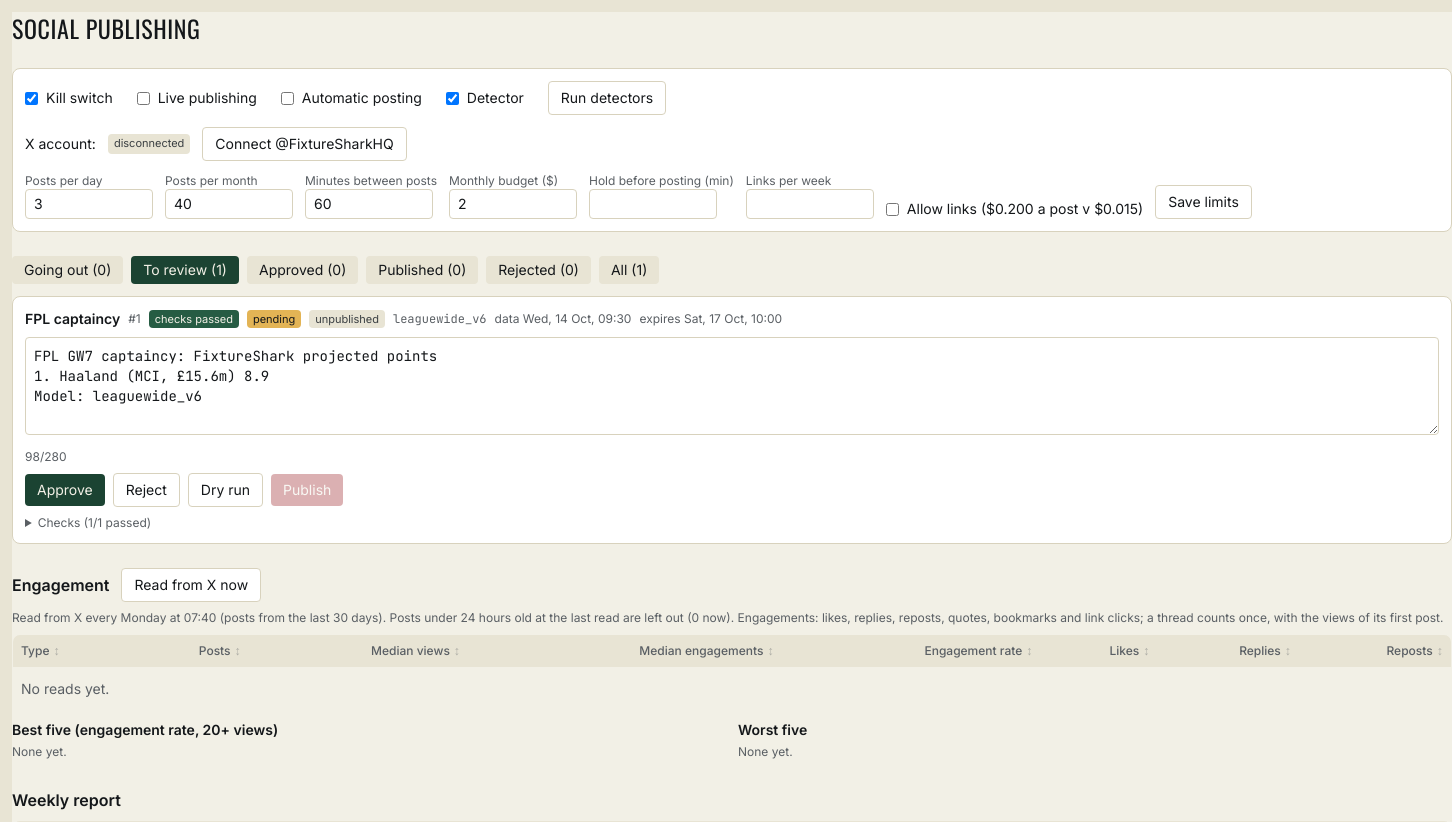
Scenario: SocialPage › blocks an edit that adds a number
The width and height of the screenshot is (1452, 822).
In the text box named "Text of candidate 1": (732, 386) x1=25 y1=337 x2=1439 y2=435, type " 100% nailed"
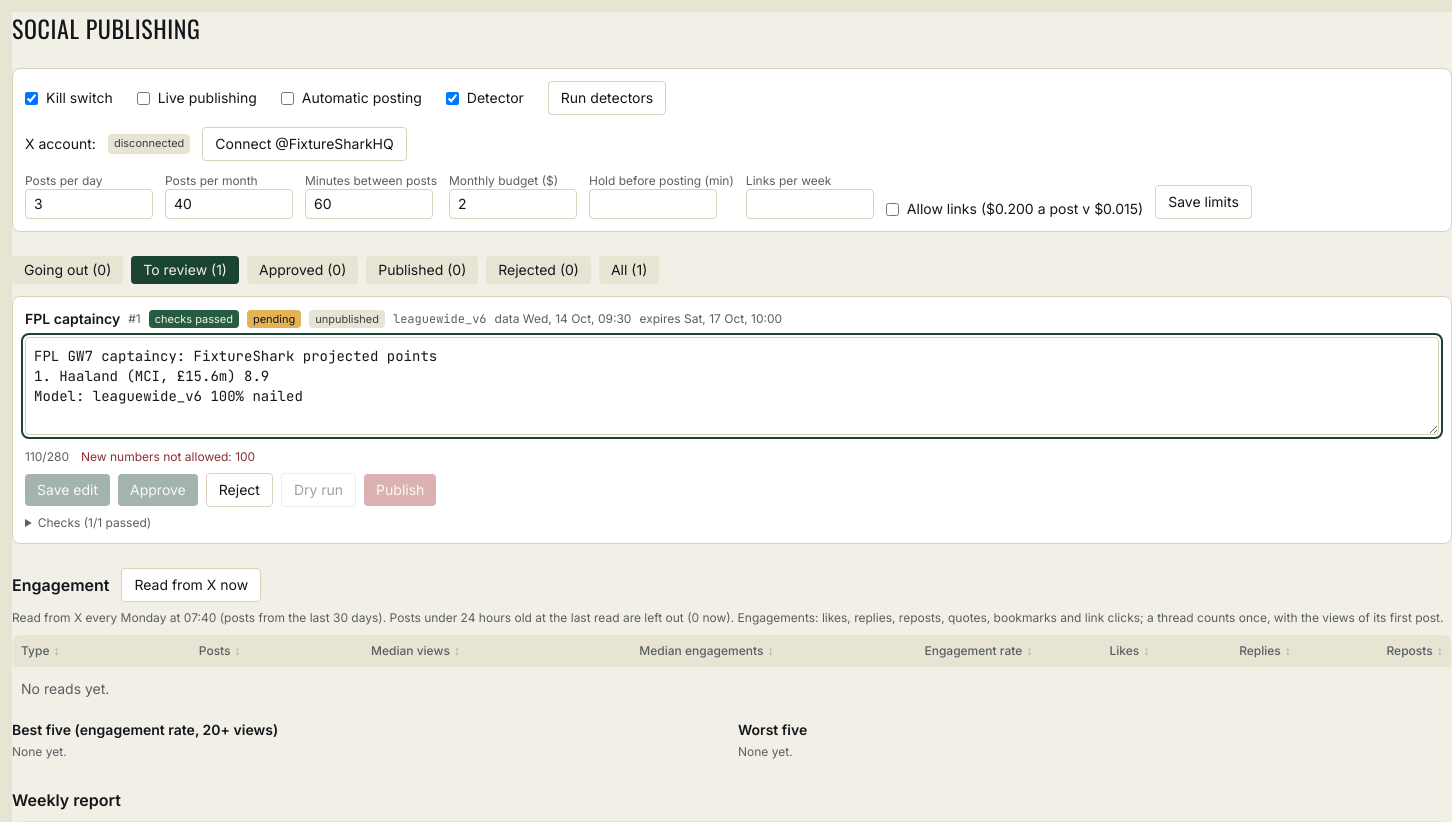
Result: the text "New numbers not allowed: 100" is shown at x1=81 y1=449 x2=255 y2=465
Result: the button "Save edit" is disabled at x1=25 y1=474 x2=110 y2=506
